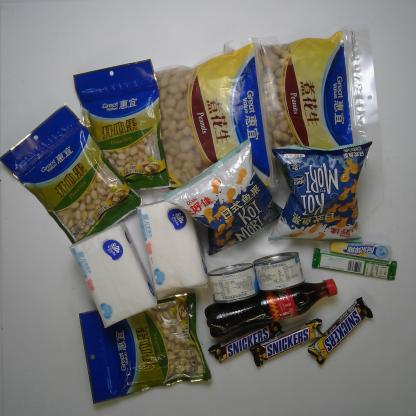Candy: (328, 234, 392, 264)
Canned Food: (251, 250, 306, 294), (206, 262, 261, 306)
Chocolate: (307, 296, 374, 367), (248, 317, 330, 370), (206, 318, 285, 366), (310, 245, 401, 282)
Dried Food: (219, 22, 384, 196), (150, 33, 284, 200)
Dried Fruit: (0, 101, 146, 248), (76, 290, 213, 406), (69, 56, 174, 194)
Drink: (203, 276, 339, 342)
Puffed Food: (155, 135, 287, 260), (267, 138, 375, 246)
Tissue: (64, 219, 162, 331), (134, 192, 212, 296)
